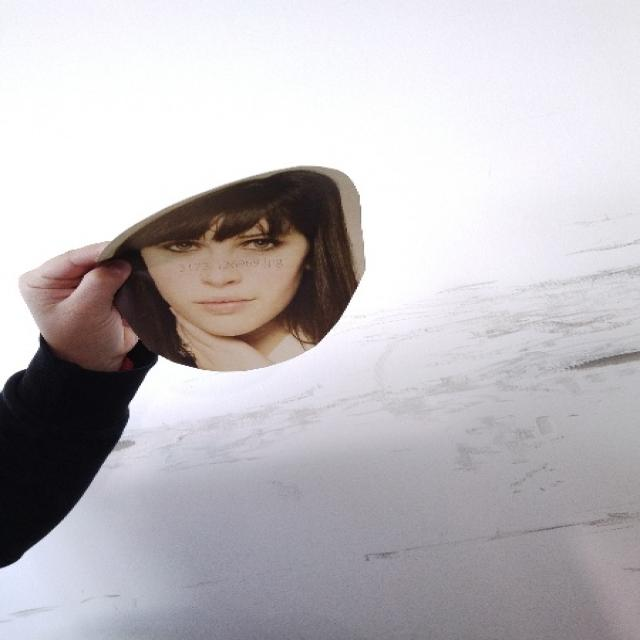photo: (84, 157, 382, 376)
